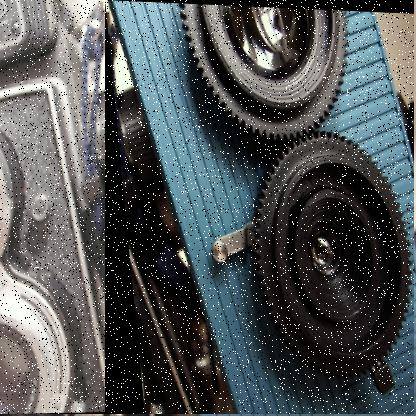Camera: (106, 1, 416, 416), (1, 1, 176, 416)
